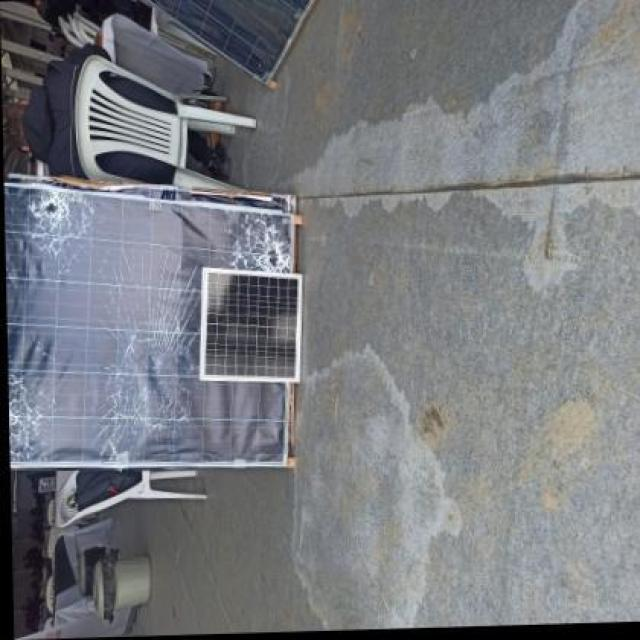cracked: (3, 186, 300, 471)
